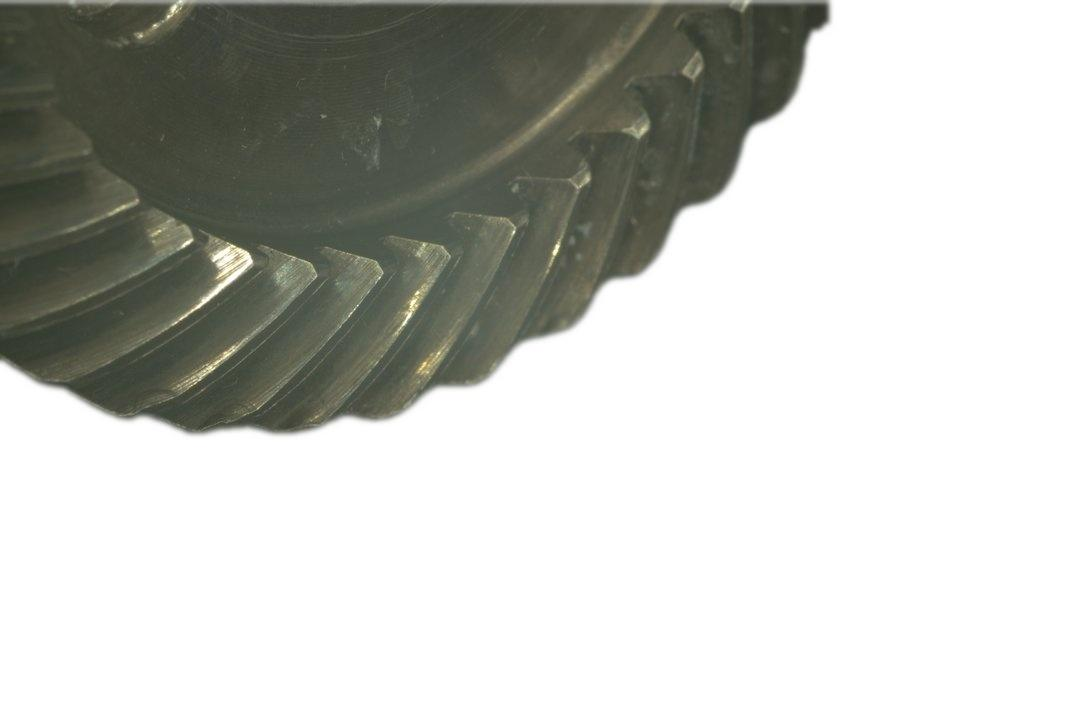defect: (546, 236, 563, 274)
